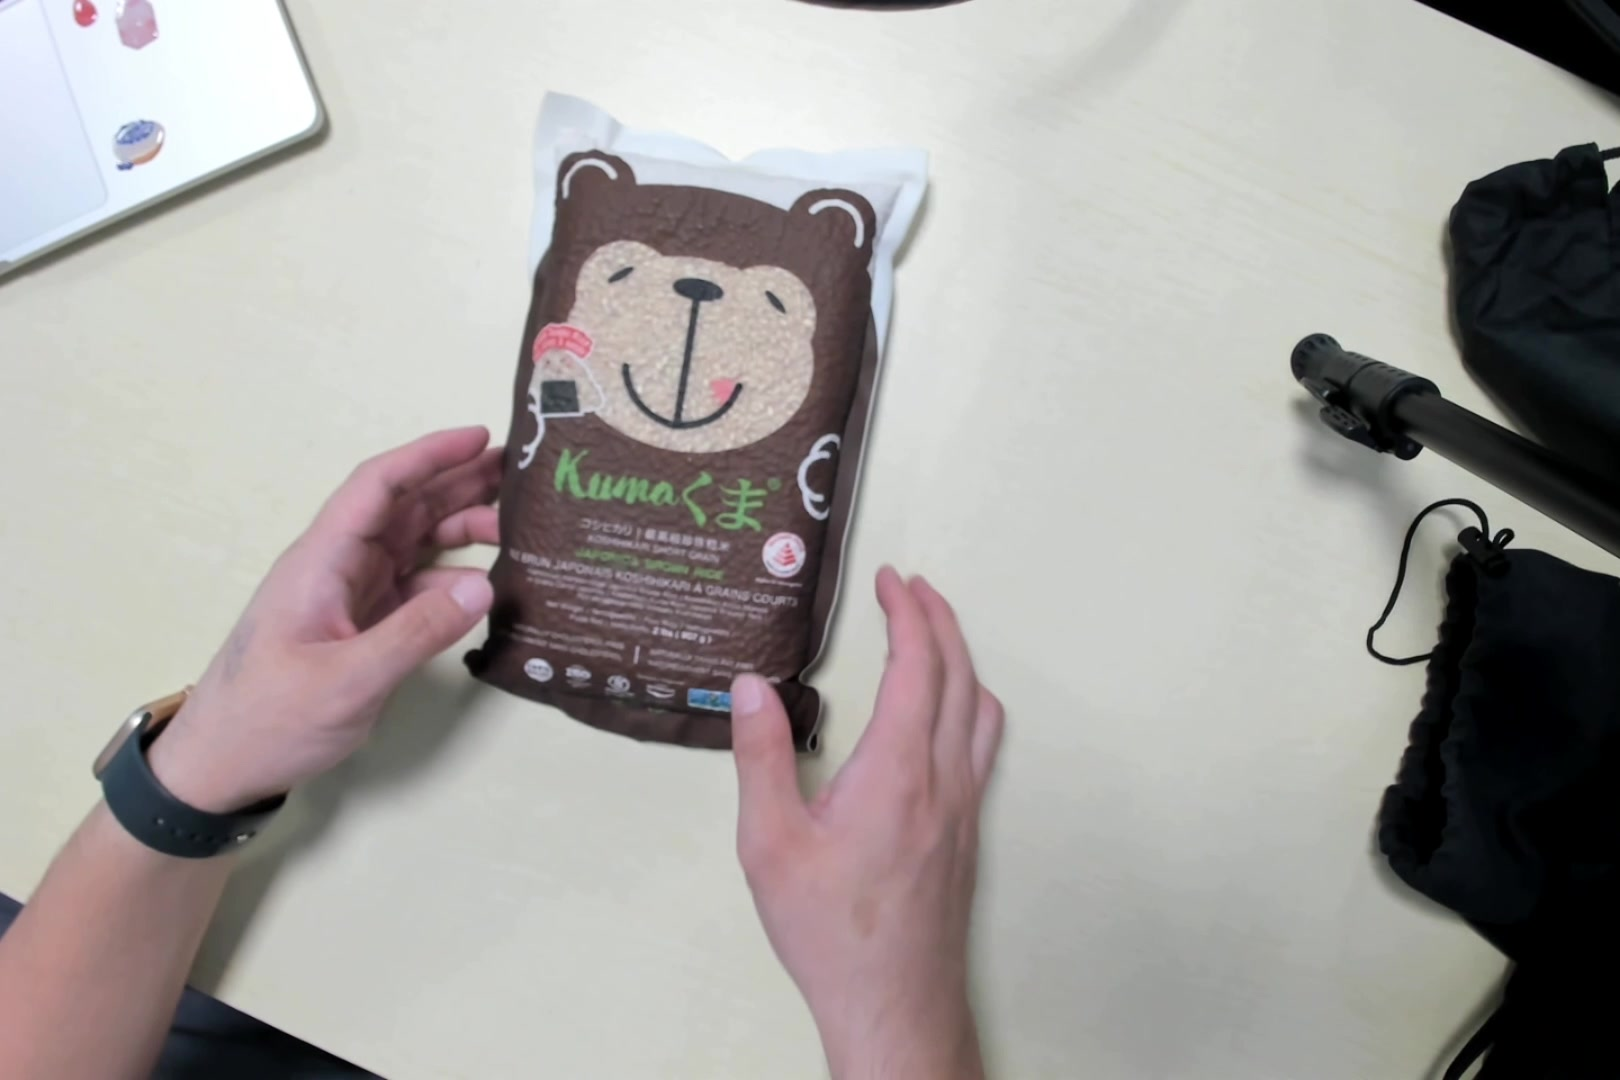Rice(BrownOthers)_500-599g_NonHalal_Healthy: (483, 110, 882, 752)
